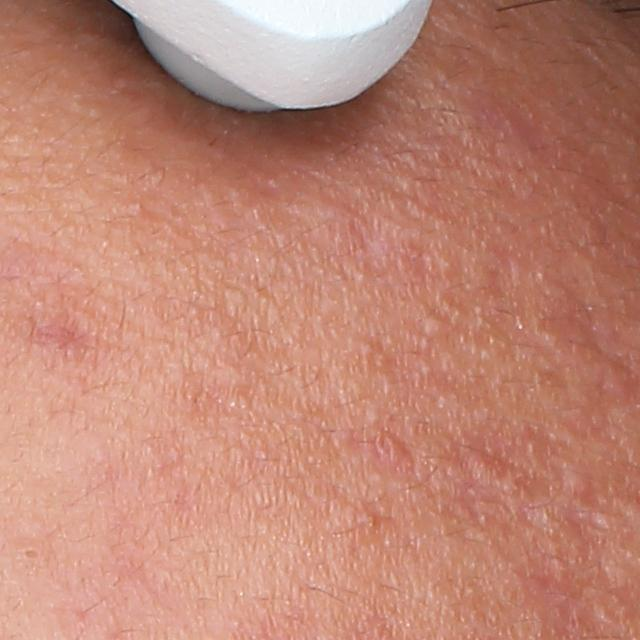comedo: (417, 312, 451, 338), (20, 543, 43, 568)
